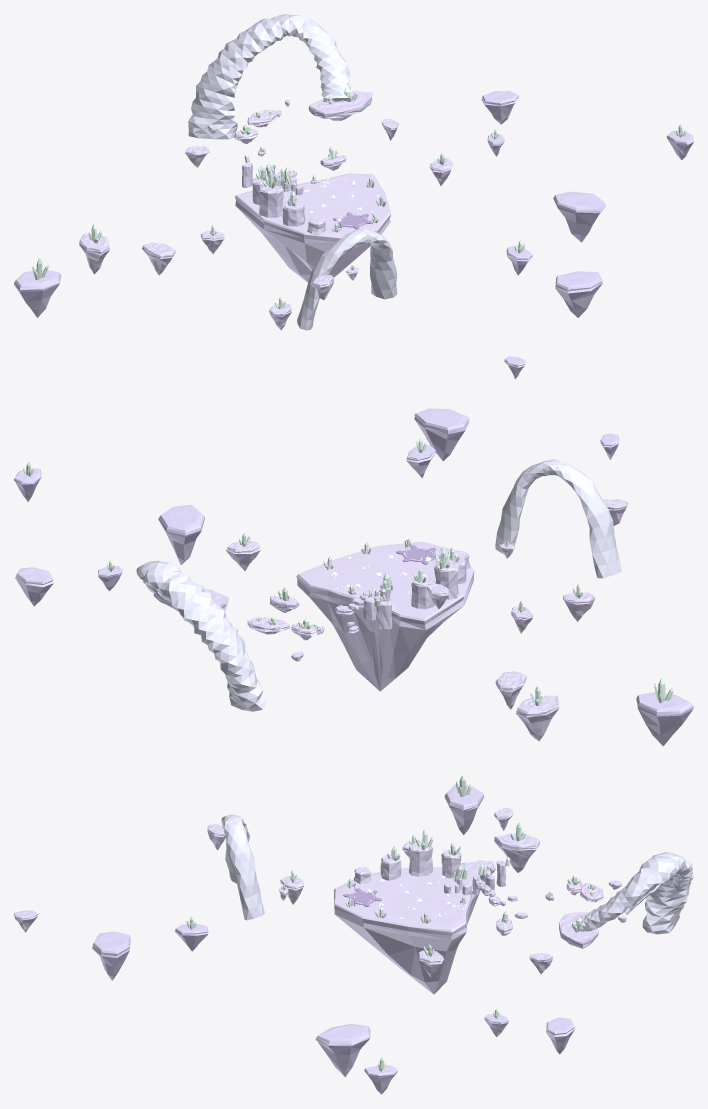
Rendered from ice.glb.
3 renders of one model, top to bottom at view 1: azimuth 30°, elevation 25°; view 2: azimuth 150°, elevation 25°; view 3: azimuth 270°, elevation 25°, orthographic. The views are drawn at different scales.
Visible parts, largest first — view 1: IceArch, Ground_MainIsland, IceArch_Back, FloatIsland_Ring_21, FloatIsland_Ring_3, FloatIsland_Ring_0, FloatShelf_RightHigh, FloatIsland_Ring_6, Cliff_Left_1, FloatIsland_Ring_17, FloatIsland_Ring_5; view 2: Ground_MainIsland, IceArch, IceArch_Back, FloatIsland_Ring_0, FloatIsland_Ring_3, FloatIsland_Ring_21, FloatIsland_Ring_17, FloatIsland_Ring_6, FloatIsland_Ring_5, Cliff_Left_1, FloatIsland_Ring_7, FloatIsland_Ring_10 (+4 smaller); view 3: Ground_MainIsland, IceArch, IceArch_Back, FloatIsland_Ring_21, FloatIsland_Ring_3, FloatIsland_Ring_0, FloatIsland_Ring_17, FloatShelf_RightHigh, Cliff_Left_1, FloatIsland_Ring_6, FloatIsland_Ring_11, FloatIsland_Ring_8.
Part boxes in pixels (bbox=[...]): IceArch: bbox=[188, 14, 352, 139]; Ground_MainIsland: bbox=[235, 173, 391, 282]; IceArch_Back: bbox=[297, 228, 397, 330]; FloatIsland_Ring_21: bbox=[553, 191, 606, 242]; FloatIsland_Ring_3: bbox=[555, 271, 602, 317]; FloatIsland_Ring_0: bbox=[14, 269, 61, 317]; FloatShelf_RightHigh: bbox=[308, 91, 372, 120]; FloatIsland_Ring_6: bbox=[481, 91, 519, 124]; Cliff_Left_1: bbox=[259, 185, 283, 217]; FloatIsland_Ring_17: bbox=[79, 233, 110, 274]; FloatIsland_Ring_5: bbox=[142, 242, 176, 275]; Ground_MainIsland: bbox=[296, 541, 474, 691]; IceArch: bbox=[136, 560, 265, 711]; IceArch_Back: bbox=[495, 459, 621, 578]; FloatIsland_Ring_0: bbox=[636, 692, 693, 746]; FloatIsland_Ring_3: bbox=[414, 408, 469, 461]; FloatIsland_Ring_21: bbox=[158, 504, 204, 564]; FloatIsland_Ring_17: bbox=[516, 695, 559, 741]; FloatIsland_Ring_6: bbox=[15, 567, 53, 606]; FloatIsland_Ring_5: bbox=[495, 671, 526, 709]; Cliff_Left_1: bbox=[434, 560, 458, 599]; FloatIsland_Ring_7: bbox=[225, 541, 260, 570]; FloatIsland_Ring_10: bbox=[563, 592, 595, 621]; Ground_MainIsland: bbox=[334, 867, 480, 994]; IceArch: bbox=[574, 852, 693, 934]; IceArch_Back: bbox=[221, 814, 264, 920]; FloatIsland_Ring_21: bbox=[315, 1024, 370, 1077]; FloatIsland_Ring_3: bbox=[92, 931, 130, 980]; FloatIsland_Ring_0: bbox=[444, 784, 484, 834]; FloatIsland_Ring_17: bbox=[494, 833, 539, 872]; FloatShelf_RightHigh: bbox=[558, 912, 598, 948]; Cliff_Left_1: bbox=[409, 841, 432, 876]; FloatIsland_Ring_6: bbox=[546, 1017, 575, 1054]; FloatIsland_Ring_11: bbox=[174, 923, 208, 951]; FloatIsland_Ring_8: bbox=[364, 1065, 397, 1094].
Size of the model in its own units: 235 by 61.32 by 214.
